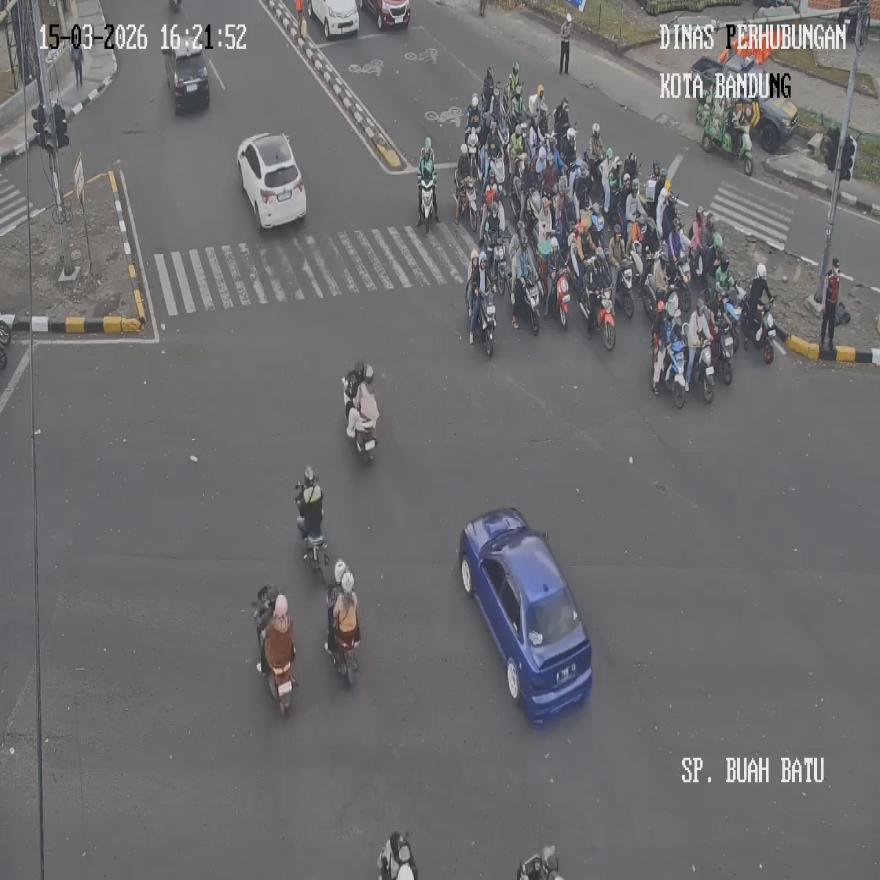Motor: (458, 507, 592, 724), (236, 132, 306, 230), (162, 24, 210, 112), (308, 0, 360, 38)
Truk: (696, 70, 754, 174), (255, 584, 294, 715), (325, 582, 358, 688), (342, 368, 376, 461), (295, 481, 327, 579), (710, 302, 734, 385), (744, 299, 775, 362), (378, 830, 417, 880), (662, 336, 688, 408), (586, 286, 614, 351), (514, 274, 541, 336), (641, 268, 668, 328), (668, 248, 692, 314), (692, 334, 715, 402), (454, 172, 479, 233), (719, 287, 743, 350), (612, 254, 634, 317), (549, 265, 570, 328), (492, 234, 510, 295), (479, 290, 496, 354), (417, 177, 435, 232)
